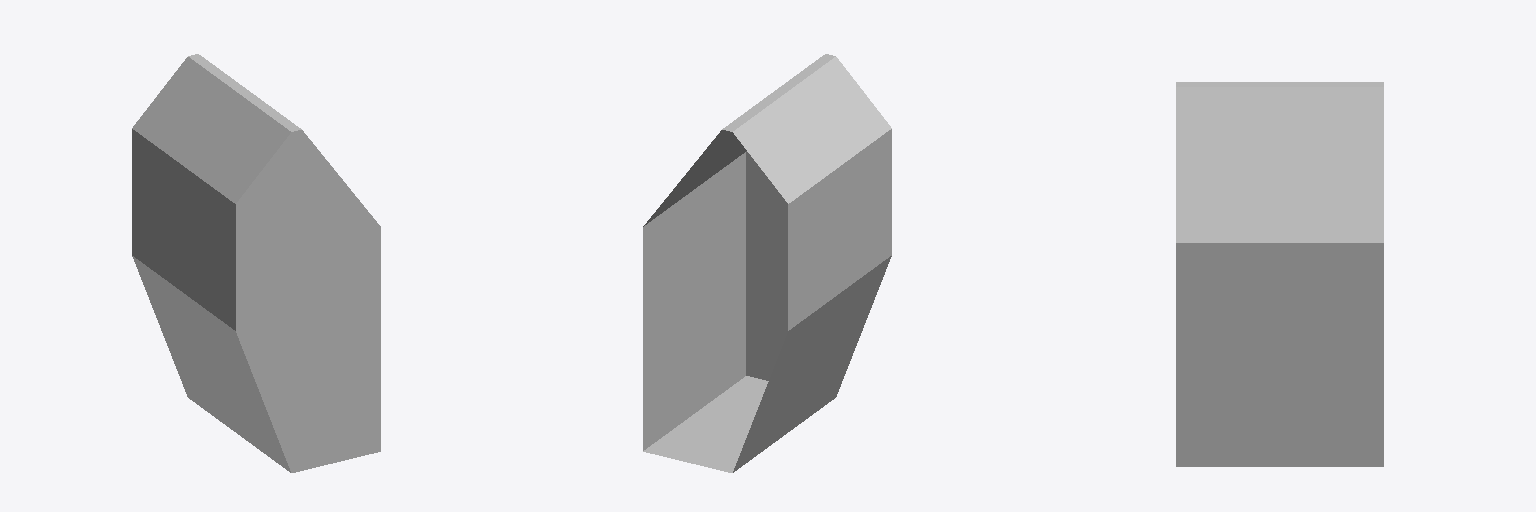
Rendered from building-57.obj.
The picture shows the model from 3 angles: view 1: azimuth 30°, elevation 25°; view 2: azimuth 150°, elevation 25°; view 3: azimuth 270°, elevation 25°; orthographic projection.
Bounding box in the file's own units: 3.91 × 8.75 × 4.82.